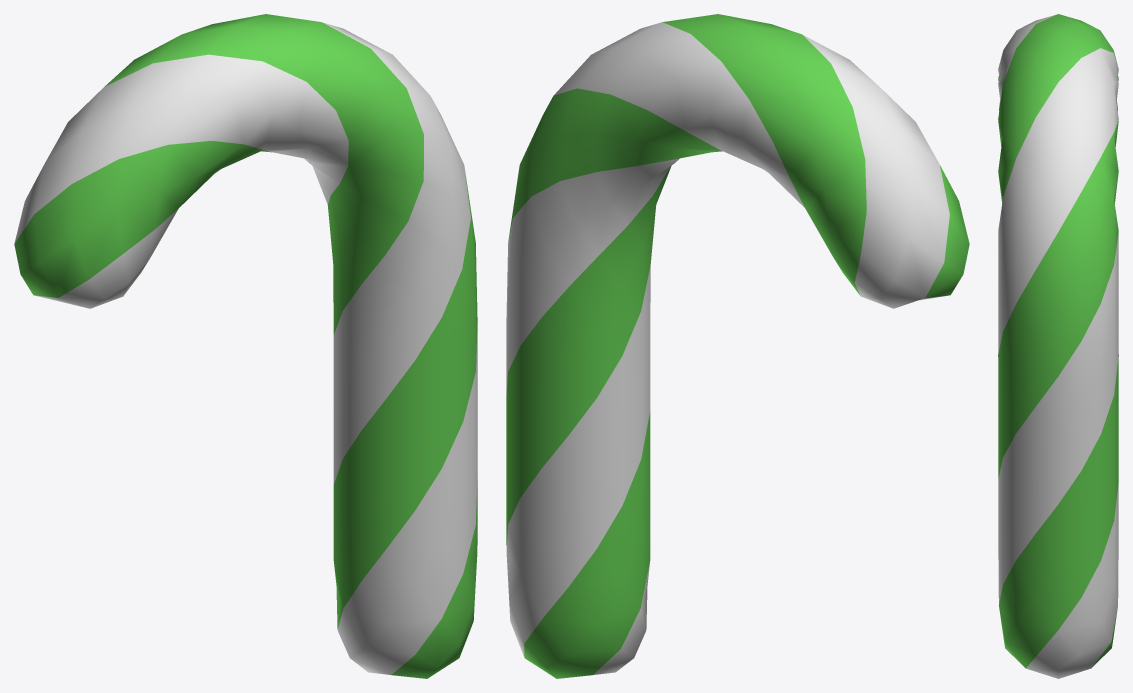
File: sugar_5.fbx
The picture shows the model from 3 angles, left to right: view 1: azimuth 30°, elevation 25°; view 2: azimuth 150°, elevation 25°; view 3: azimuth 270°, elevation 25°; orthographic projection. The views are drawn at different scales.
Visible parts, largest first — view 1: sugar_4; view 2: sugar_4; view 3: sugar_4.
Part boxes in pixels (x1,y1,x2,y2): sugar_4: (14, 14, 477, 678); sugar_4: (506, 14, 969, 678); sugar_4: (998, 14, 1118, 678).
Bounding box in the file's own units: 34.67 × 50.77 × 9.77.
